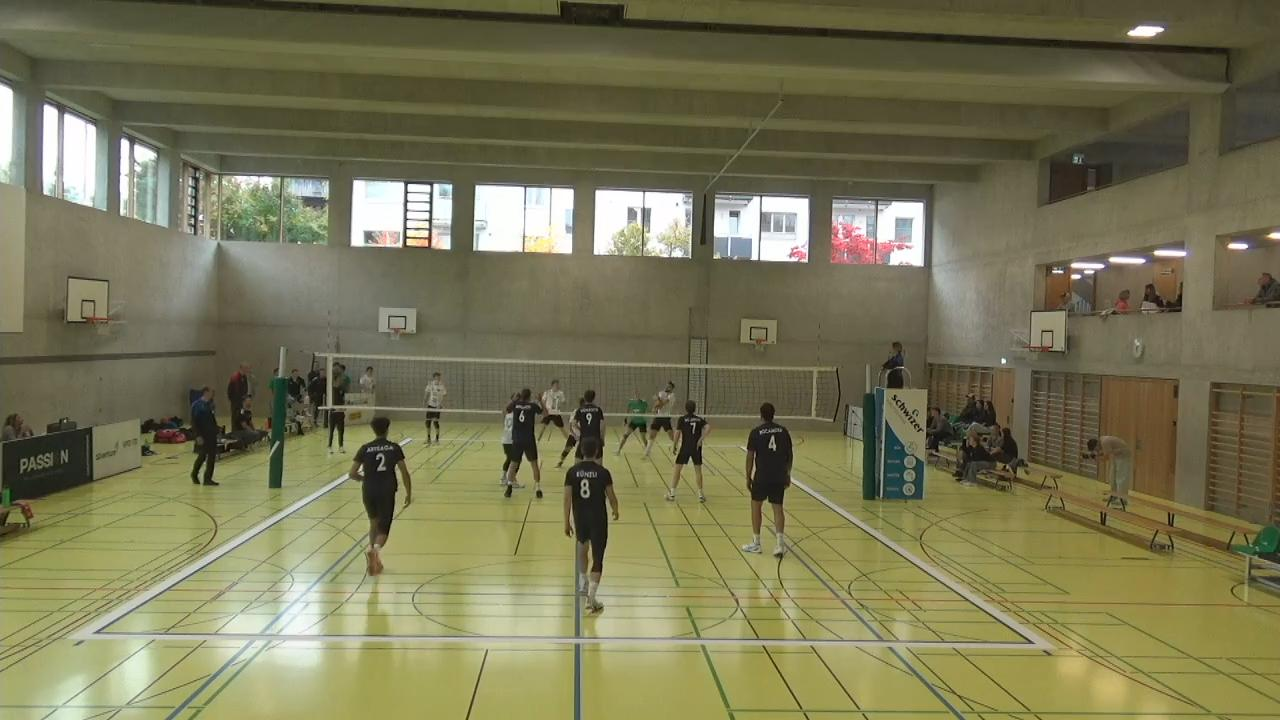Player: (564, 436, 620, 612), (352, 415, 412, 576), (742, 402, 792, 557), (664, 394, 708, 502), (498, 387, 539, 499), (564, 387, 604, 474), (493, 390, 520, 488), (613, 389, 651, 458), (540, 378, 569, 464), (423, 371, 445, 446)
Receive: (649, 384, 676, 462)
ball: (653, 392, 664, 409)
